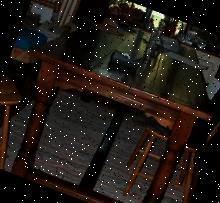Mesa: (0, 0, 219, 202)
Silla: (113, 45, 219, 202), (0, 65, 42, 171)
